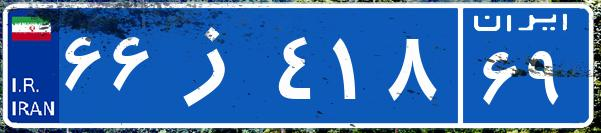1: (330, 28, 385, 110)
4: (273, 28, 330, 110)
6: (57, 26, 110, 107), (475, 38, 525, 113), (110, 28, 158, 105)
8: (385, 28, 445, 110)
9: (525, 38, 570, 115)
ز: (158, 15, 273, 115)
